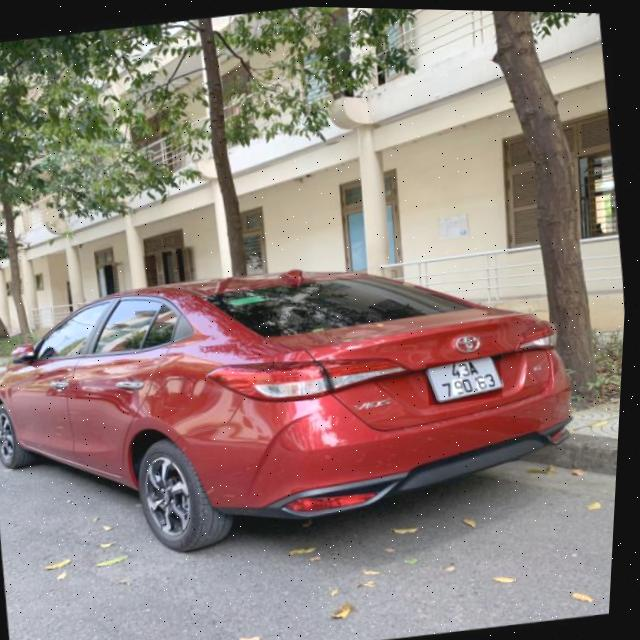car: (0, 231, 598, 584)
plate: (418, 347, 508, 409)
